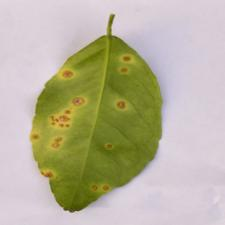Canker: (38, 50, 170, 201)
